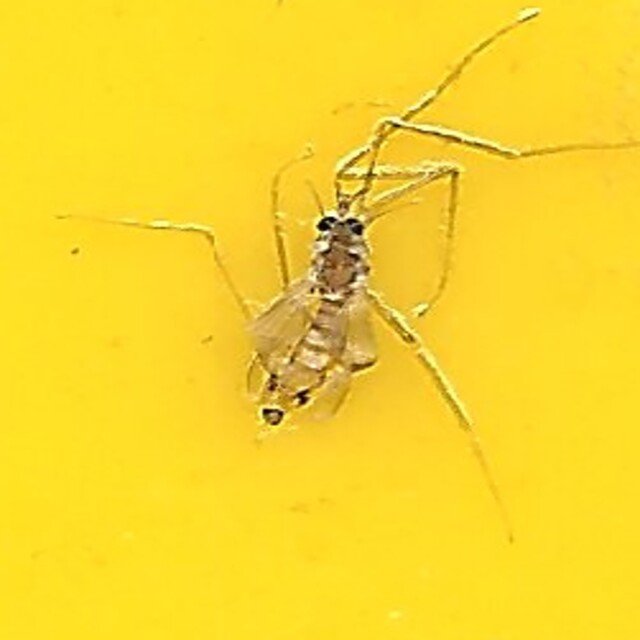Nematocera: (255, 204, 385, 436)
